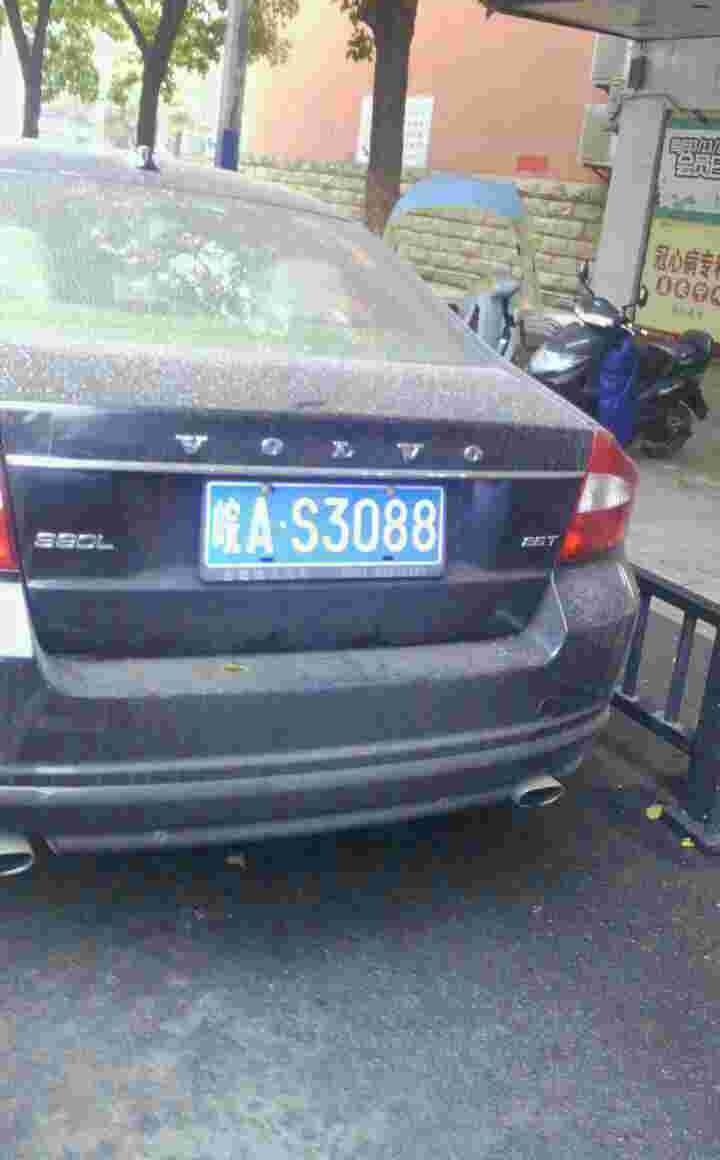plate: (214, 480, 450, 568)
